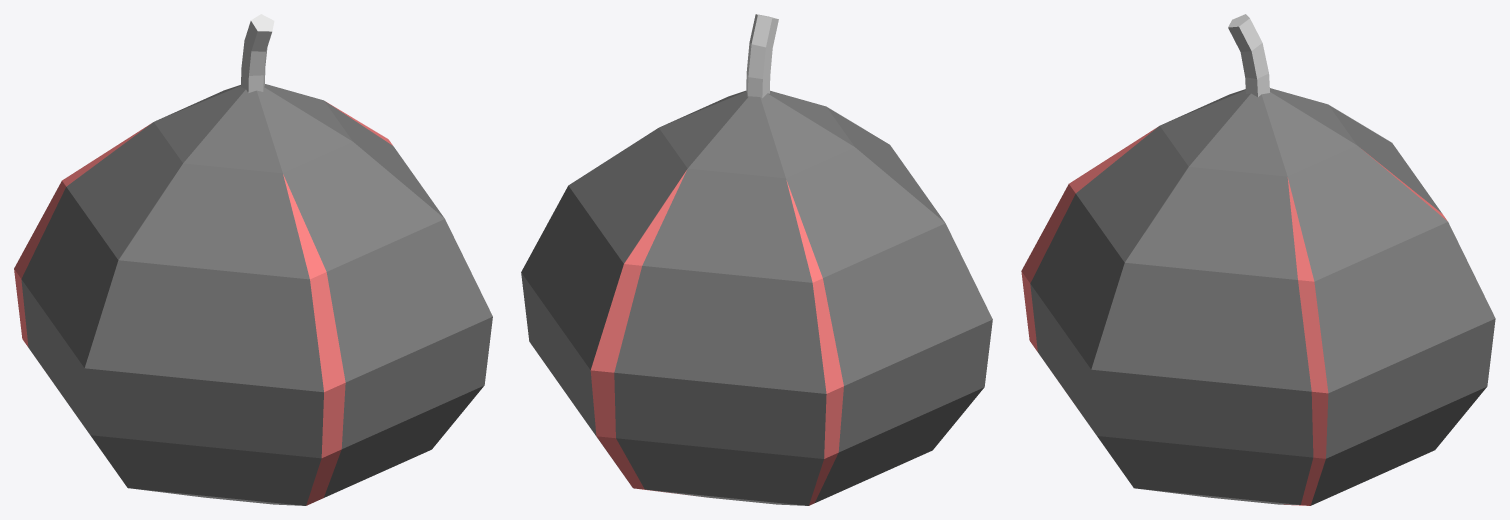
The model's file is onion.fbx.
The picture shows the model from 3 angles, left to right: view 1: azimuth 30°, elevation 25°; view 2: azimuth 150°, elevation 25°; view 3: azimuth 270°, elevation 25°; orthographic projection.
Parts seen in each view (by area): view 1: Cylinder002, Cylinder003; view 2: Cylinder002, Cylinder003; view 3: Cylinder002, Cylinder003.
Part boxes in pixels (bbox=[...]): Cylinder002: bbox=[14, 84, 492, 505]; Cylinder003: bbox=[241, 14, 274, 92]; Cylinder002: bbox=[521, 90, 992, 505]; Cylinder003: bbox=[746, 14, 778, 98]; Cylinder002: bbox=[1021, 88, 1495, 505]; Cylinder003: bbox=[1228, 14, 1269, 96].
Bounding box in the file's own units: 7.19 × 7.94 × 7.3.
